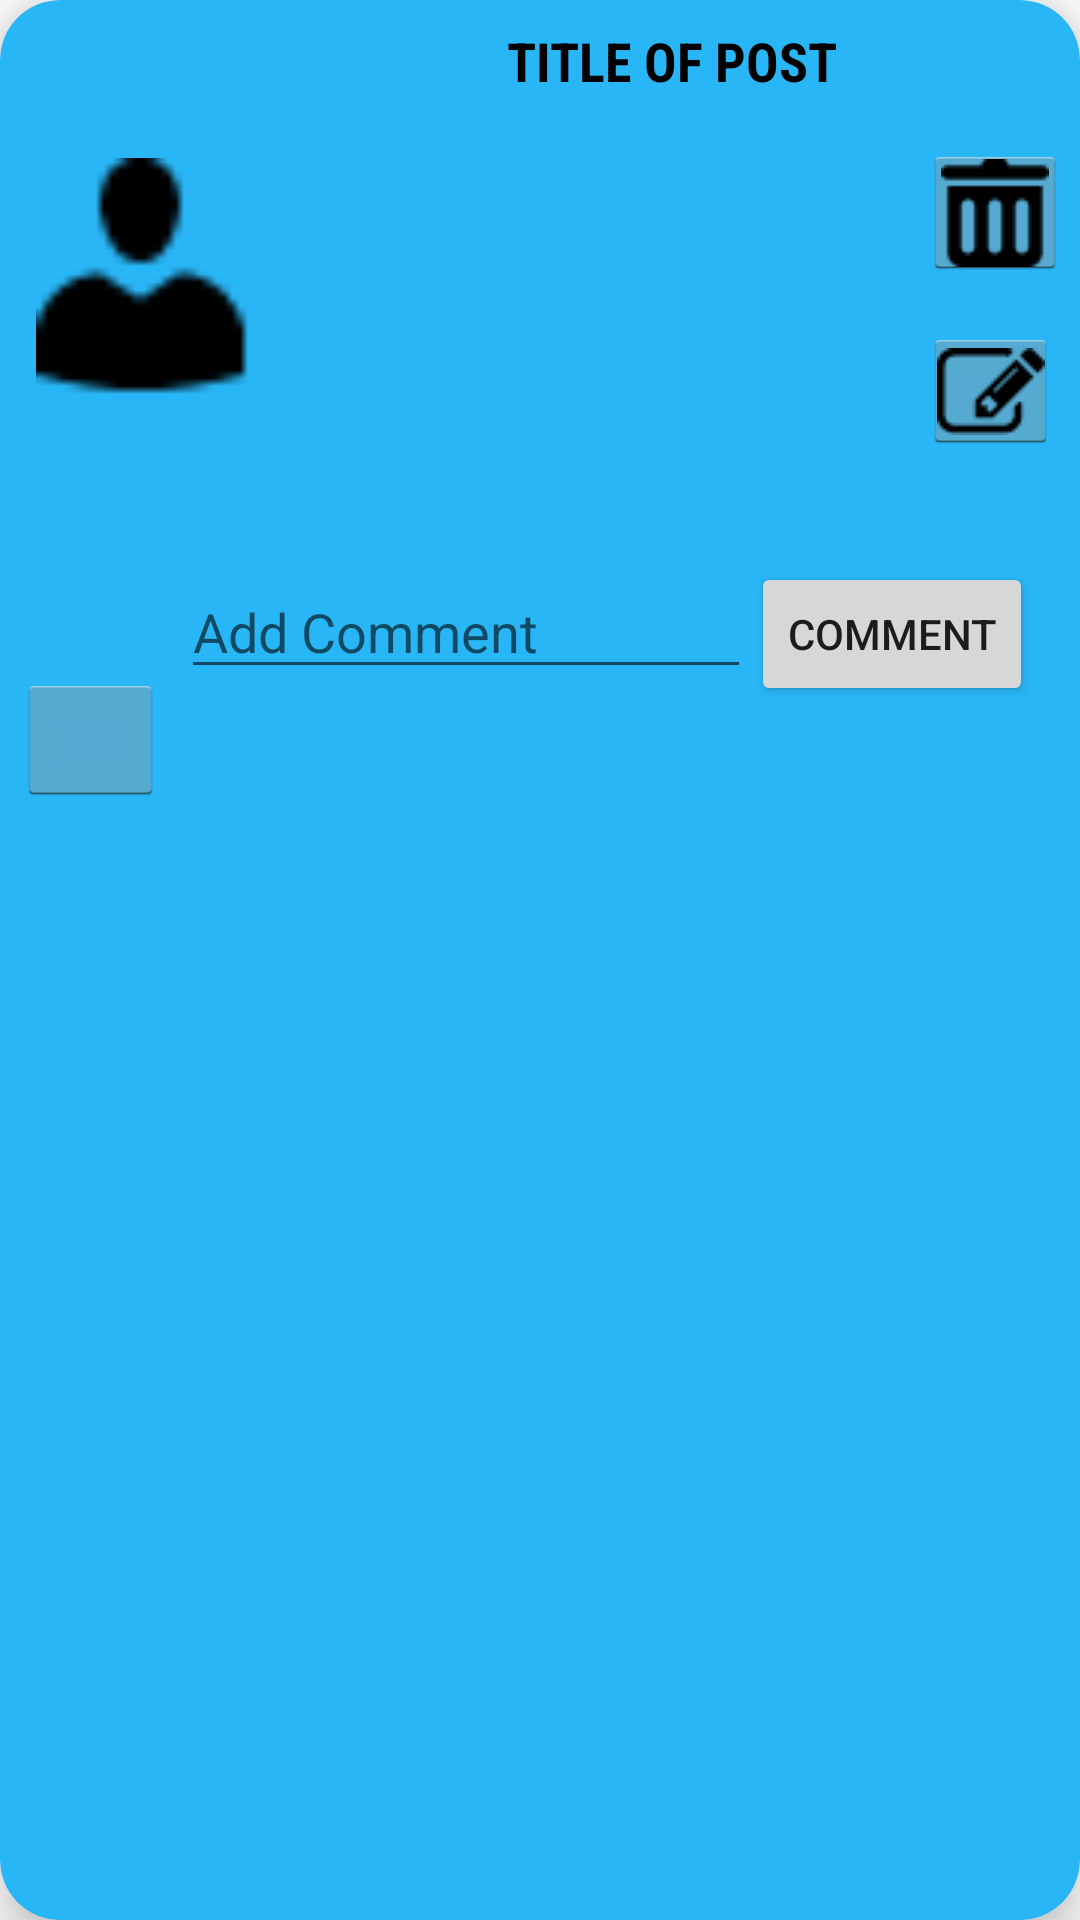

Point at icon controls on the screen. Image size 1080 × 1920, points as point (x, y).
delete: point (995, 213)
edit: point (990, 391)
username: point (141, 275)
